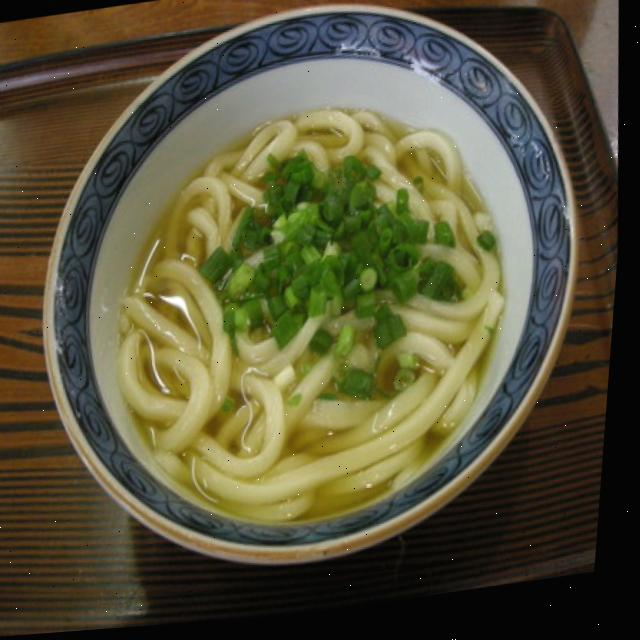面条主食: (66, 39, 563, 568)
